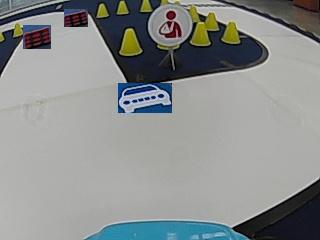cone: (118, 28, 143, 57), (190, 22, 211, 46), (221, 21, 240, 44), (205, 12, 218, 30), (96, 3, 109, 17), (116, 1, 129, 14), (12, 23, 23, 37), (140, 0, 152, 11)
patient: (154, 4, 191, 41)
